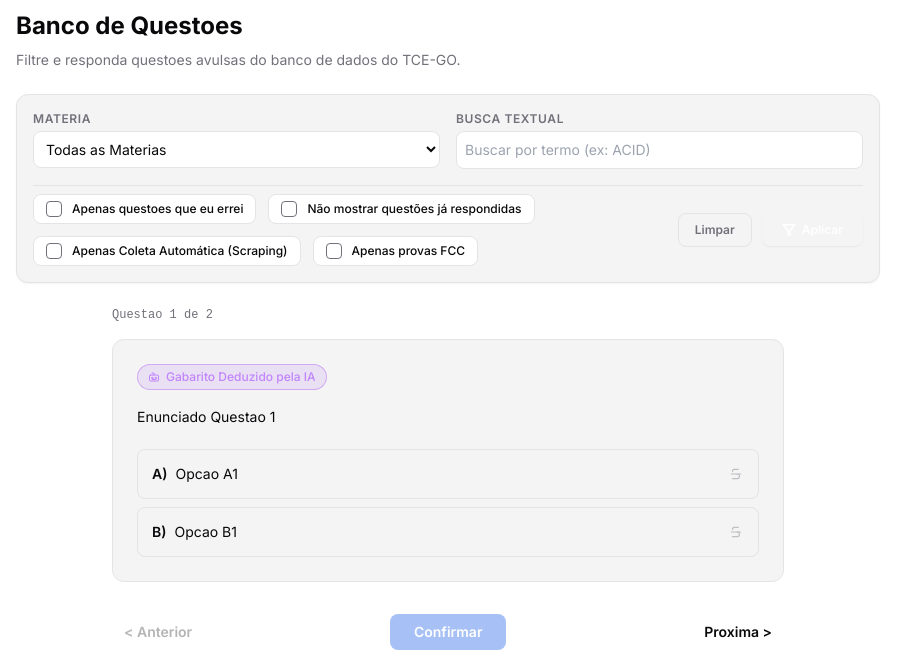
Test case: BancoQuestoes - Navegacao Continua › @spec:AC-037 permite navegar para a proxima questao livremente sem responder
The image size is (897, 667).
expect the text "Enunciado Questao 1" is shown: met, box [137,408,276,425]
Step 1. Click the button "Proxima >" → (738, 632), box [692,616,784,648]
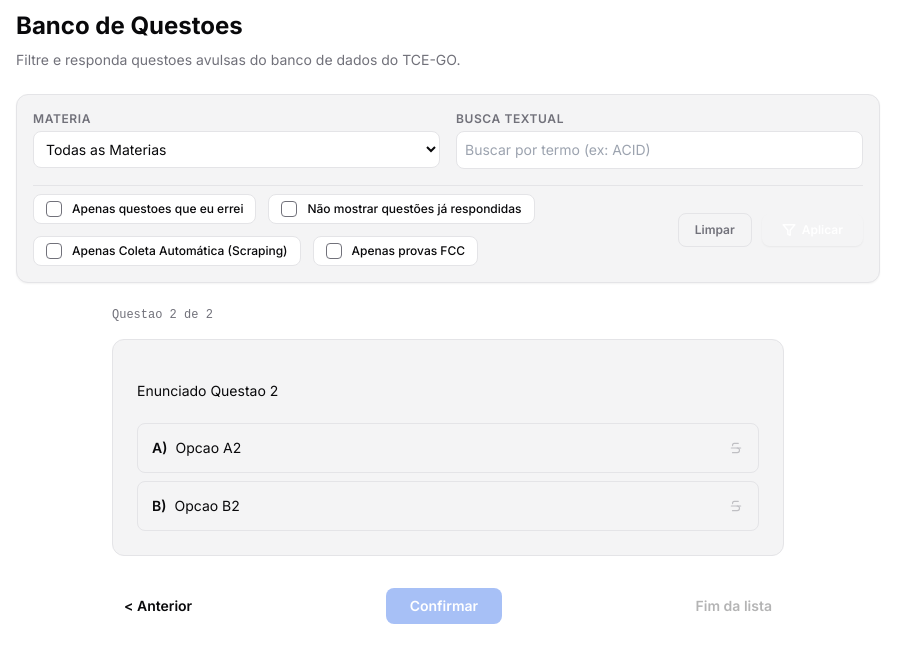
expect the text "Enunciado Questao 2" is shown: met, box [137,382,278,399]
expect the text "Questao 2 de 2" is shown: met, box [112,307,213,323]
